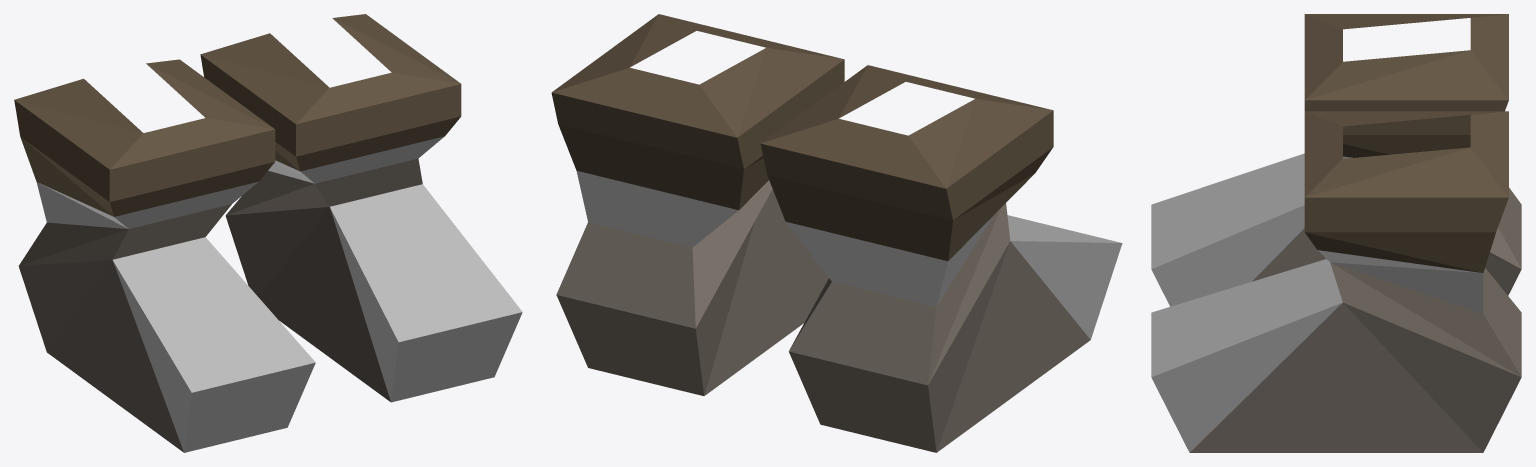
The model's file is armour-boots.glb.
3 renders of one model, left to right at view 1: azimuth 30°, elevation 25°; view 2: azimuth 150°, elevation 25°; view 3: azimuth 270°, elevation 25°, orthographic. The views are drawn at different scales.
Visible parts, largest first — view 1: runescapemodel; view 2: runescapemodel; view 3: runescapemodel.
Boxes of the visible parts, x1,y1,x2,y2 form: runescapemodel: [14, 14, 522, 452]; runescapemodel: [551, 14, 1122, 452]; runescapemodel: [1151, 14, 1521, 452].
Bounding box in the file's own units: 34 × 25 × 29.
